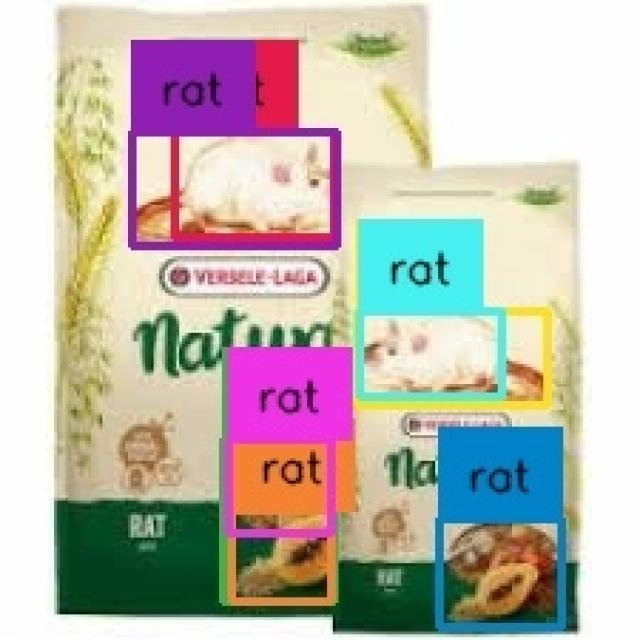rat: (130, 134, 336, 248), (223, 439, 334, 602), (357, 312, 548, 406), (175, 132, 334, 238), (438, 518, 563, 626), (360, 311, 502, 397), (228, 439, 332, 534), (232, 512, 331, 600)
